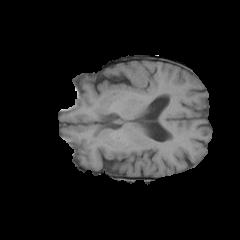glioma: (99, 69, 156, 98)
